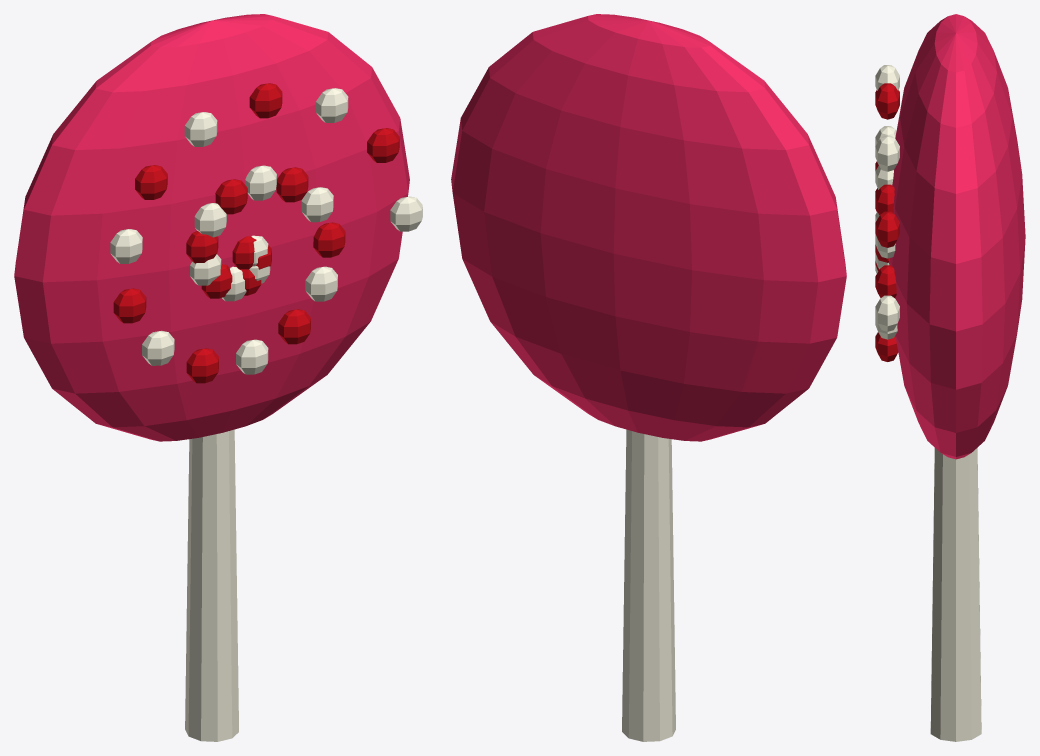
File: pirulito.obj
3 views of the same model, side by side, from view 1: azimuth 30°, elevation 25°; view 2: azimuth 150°, elevation 25°; view 3: azimuth 270°, elevation 25° (orthographic).
Visible parts, largest first — view 1: Candy_Disc, Stick, Swirl_Dot_3, Swirl_Dot_7, Swirl_Dot_2, Swirl_Dot_4, Swirl_Dot_9, Swirl_Dot_0, Swirl_Dot_11, Swirl_Dot_10, Swirl_Dot_12, Swirl_Dot_14 (+11 smaller); view 2: Candy_Disc, Stick; view 3: Candy_Disc, Stick, Swirl_Dot_1, Swirl_Dot_3, Swirl_Dot_0, Swirl_Dot_2, Swirl_Dot_13, Swirl_Dot_15, Swirl_Dot_11, Swirl_Dot_4, Swirl_Dot_16.
Boxes of the visible parts, <box> form: Candy_Disc: <box>14,14,409,441</box>; Stick: <box>185,429,238,741</box>; Swirl_Dot_3: <box>249,83,282,118</box>; Swirl_Dot_7: <box>113,288,146,323</box>; Swirl_Dot_2: <box>315,88,348,122</box>; Swirl_Dot_4: <box>184,112,217,146</box>; Swirl_Dot_9: <box>186,348,218,383</box>; Swirl_Dot_0: <box>390,196,422,231</box>; Swirl_Dot_11: <box>278,309,310,344</box>; Swirl_Dot_10: <box>236,339,268,374</box>; Swirl_Dot_12: <box>305,266,337,301</box>; Swirl_Dot_14: <box>301,187,333,222</box>; Candy_Disc: <box>451,14,846,441</box>; Stick: <box>622,429,675,741</box>; Candy_Disc: <box>889,14,1025,459</box>; Stick: <box>930,448,981,741</box>; Swirl_Dot_1: <box>875,211,899,247</box>; Swirl_Dot_3: <box>875,83,899,119</box>; Swirl_Dot_0: <box>875,295,899,331</box>; Swirl_Dot_2: <box>875,135,899,171</box>; Swirl_Dot_13: <box>875,265,896,297</box>; Swirl_Dot_15: <box>875,184,894,215</box>; Swirl_Dot_11: <box>875,332,898,361</box>; Swirl_Dot_4: <box>875,65,899,90</box>; Swirl_Dot_16: <box>875,166,893,189</box>.
Bounding box in the file's own units: 0.84 × 1.44 × 0.2812.
